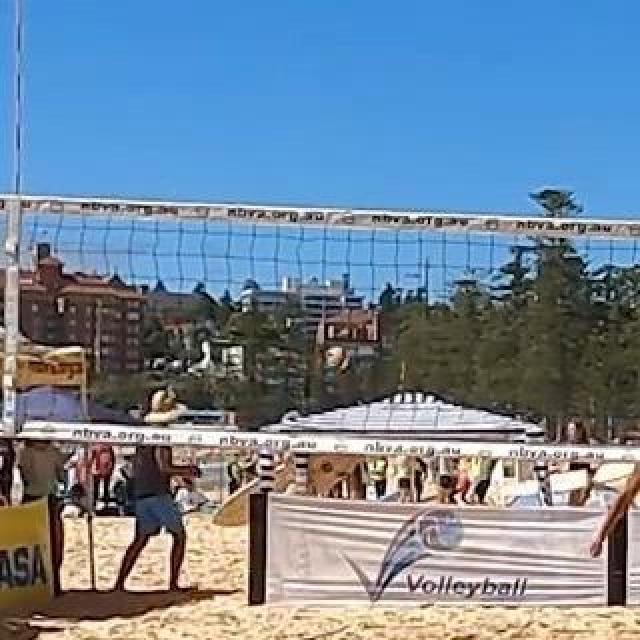volleyball: (325, 347, 347, 369)
